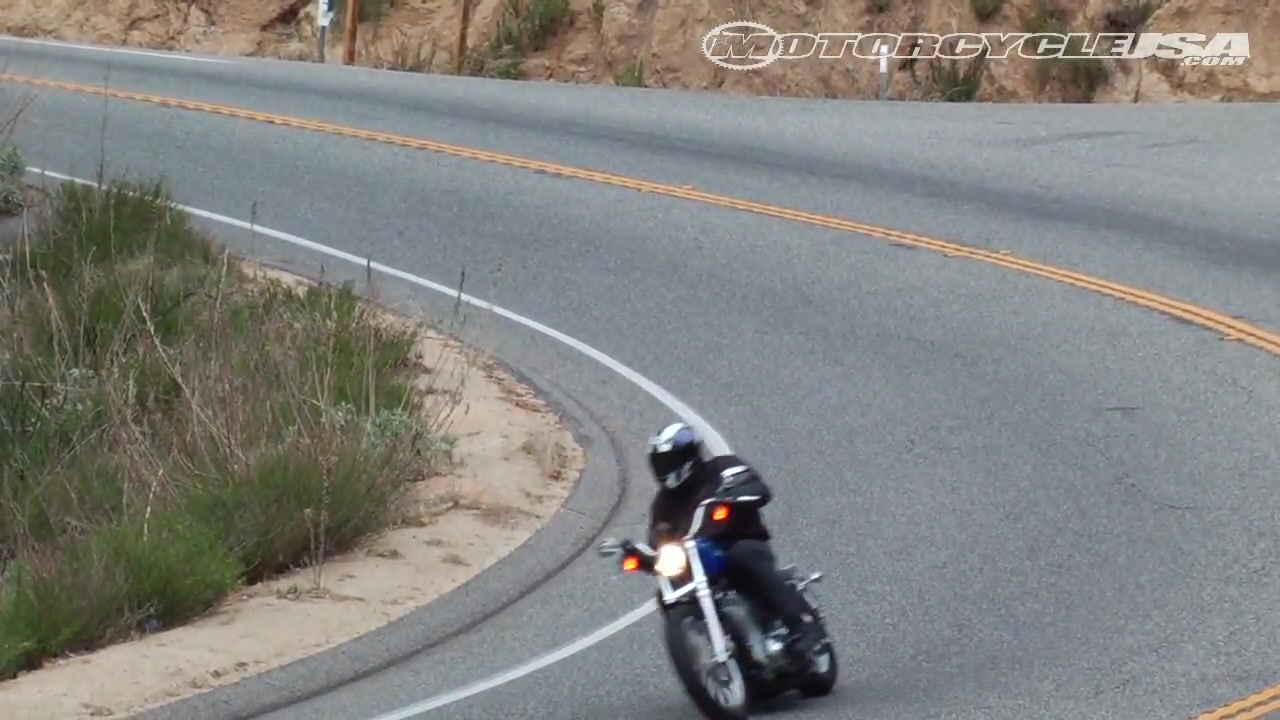motorbike: (595, 464, 841, 719)
